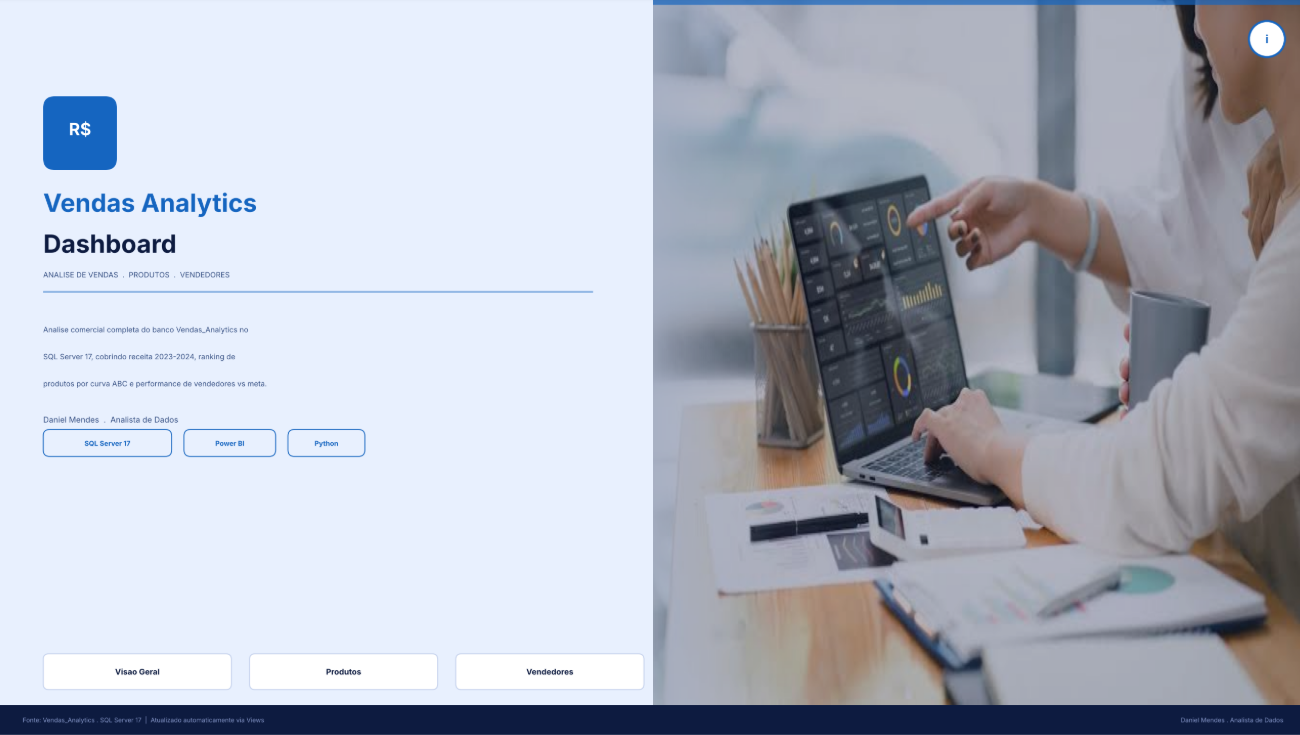

The dashboard page shown, as its layout file describes it:
{"tool":"powerbi","page":{"name":"Início","canvas":[1920,1080],"ordinal":0},"visuals":[{"type":"actionButton","box":[81.4,954.7,261.8,46.2],"z":0},{"type":"actionButton","box":[369.6,954.7,275,46.2],"z":1000},{"type":"actionButton","box":[666.5,956.9,275,46.2],"z":2000},{"type":"shape","box":[1819.3,35.2,57.2,55],"z":3000}]}

Visuals, with their boxes in screenshot pixels (x1, y1, x2, y2), scaled from the page's 1920x1080 canvas onto the 1300x735 screenshot:
actionButton: rect(55, 650, 232, 681)
actionButton: rect(250, 650, 436, 681)
actionButton: rect(451, 651, 637, 683)
shape: rect(1232, 24, 1271, 61)
